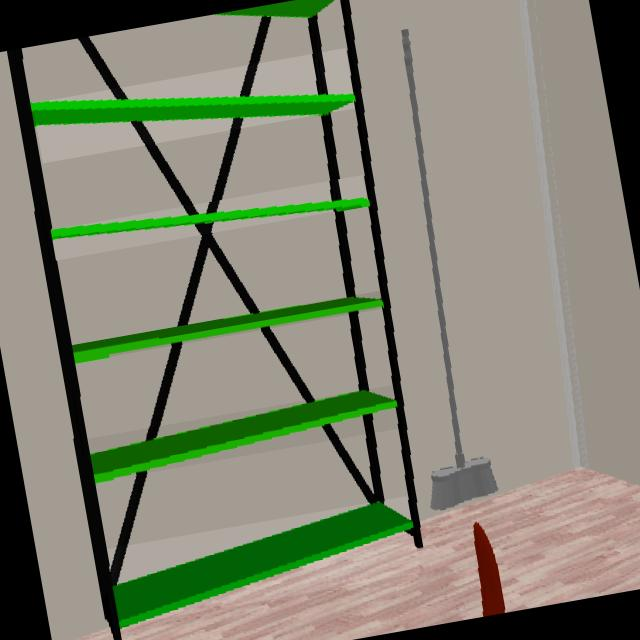shelf: (113, 502, 411, 625), (91, 390, 395, 481), (72, 297, 382, 361), (53, 199, 368, 241), (33, 96, 354, 125)
